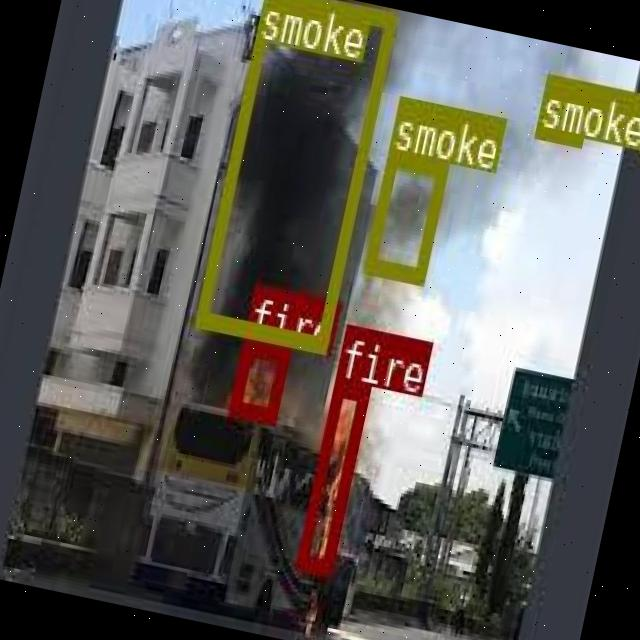fire: (294, 378, 368, 572), (228, 337, 288, 422)
smoke: (192, 0, 394, 350), (362, 150, 447, 280), (535, 74, 591, 142)
